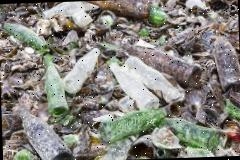glass: (3, 11, 221, 160)
